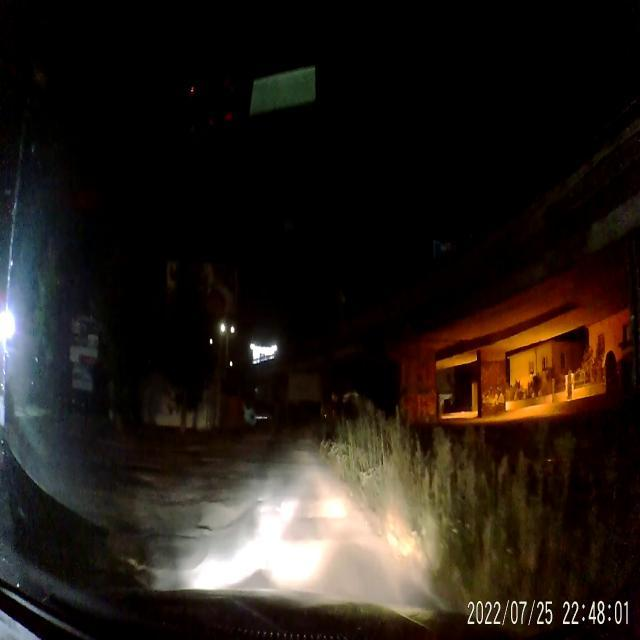Pothole: (320, 496, 344, 521), (192, 516, 214, 534)
